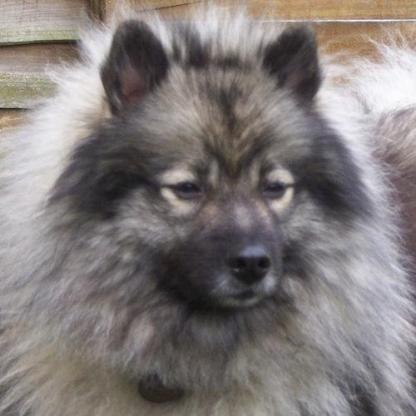keeshond: (0, 0, 414, 414)
